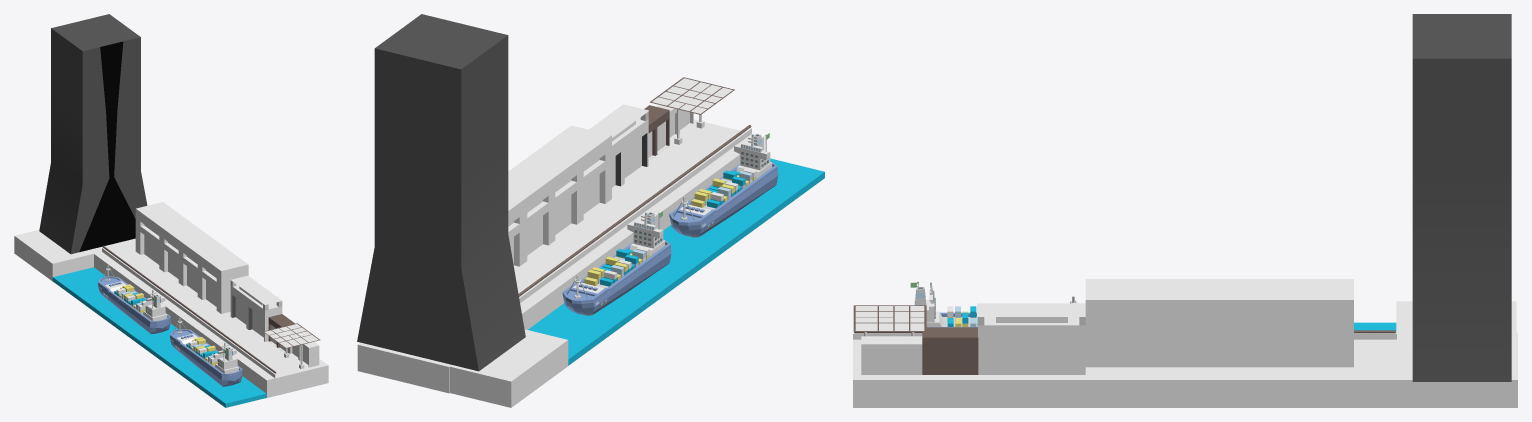
File: marseilleaveclight.gltf
The picture shows the model from 3 angles, left to right: view 1: azimuth 30°, elevation 25°; view 2: azimuth 150°, elevation 25°; view 3: azimuth 270°, elevation 25°; orthographic projection. The views are drawn at different scales.
Visible parts, largest first — view 1: Cube.11-mat23 (×2), sol (×2), Cube.10-Worktop 9, Eau, Cube.11-Mat, bateau-mat14 (×2), bateau-mat21 (×2), Cube.10-Greyscale Burst, Cube.4-Worktop 9, bare noir, Plane.1-Greyscale Burst, Plane (+5 smaller); view 2: Cube.11-mat23 (×3), sol (×2), Eau, Cube.10-Worktop 9, bateau-mat14 (×2), bateau-mat21 (×2), Cube.10-Greyscale Burst, bare noir, Plane.1-Greyscale Burst, bateau-mat12 (×2), Cylinder, Cube.4-Worktop 9 (+6 smaller); view 3: Cube.11-mat23 (×2), sol (×2), Cube.10-Worktop 9, Cube.4-Worktop 9, Cube.3-Bronze, Cube.2-Ceramic 1, Plane.1-Greyscale Burst, Plane, Plane.1-Bronze, bare noir.
Boxes of the visible parts, x1,y1,x2,y2 form: Cube.11-mat23 (×2): (39,14,147,254); sol (×2): (14,230,328,397); Cube.10-Worktop 9: (135,202,248,313); Eau: (52,267,266,407); Cube.11-Mat: (79,41,135,251); bateau-mat14 (×2): (98,276,242,386); bateau-mat21 (×2): (105,281,238,373); Cube.10-Greyscale Burst: (144,224,216,306); Cube.4-Worktop 9: (230,284,282,341); bare noir: (102,248,275,378); Plane.1-Greyscale Burst: (265,324,318,347); Plane: (231,275,282,304); Cube.11-mat23 (×3): (357,14,525,371); sol (×2): (357,119,764,407); Eau: (528,158,824,365); Cube.10-Worktop 9: (508,125,611,270); bateau-mat14 (×2): (562,161,778,314); bateau-mat21 (×2): (573,136,772,293); Cube.10-Greyscale Burst: (508,159,604,265); bare noir: (519,128,751,302); Plane.1-Greyscale Burst: (652,78,732,113); bateau-mat12 (×2): (584,175,756,285); Cylinder: (518,125,751,296); Cube.4-Worktop 9: (612,117,648,185); Cube.11-mat23 (×2): (1412,14,1511,381); sol (×2): (853,301,1517,407); Cube.10-Worktop 9: (1085,279,1353,367); Cube.4-Worktop 9: (978,317,1085,374); Cube.3-Bronze: (922,327,978,374); Cube.2-Ceramic 1: (861,336,922,374); Plane.1-Greyscale Burst: (855,306,924,330); Plane: (977,303,1085,316); Plane.1-Bronze: (853,305,926,331); bare noir: (853,333,1396,339).
Bounding box in the file's own units: 3.85 × 7.62 × 13.42.
